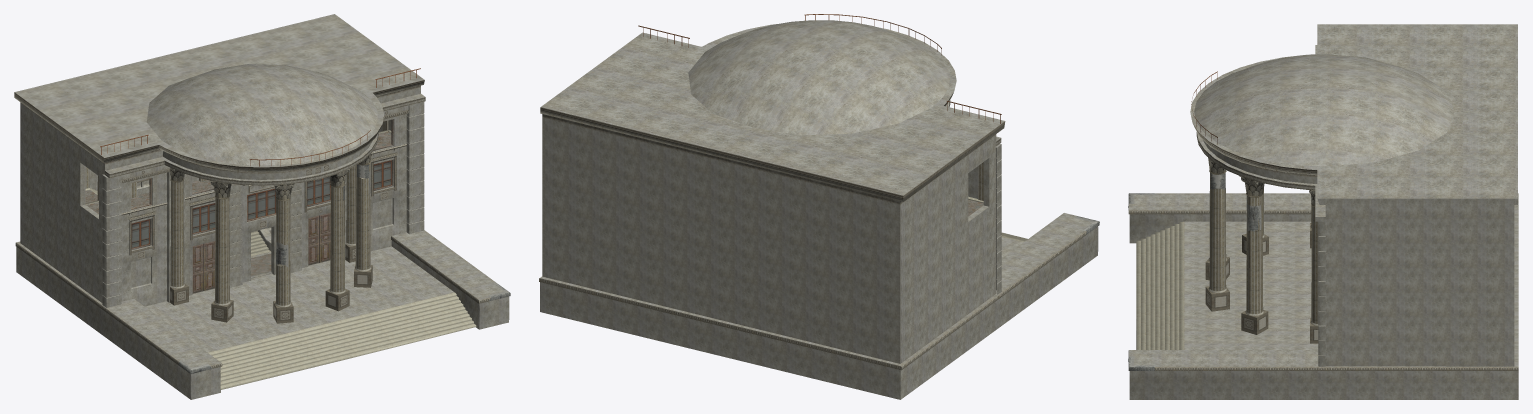
File: kosovo_municipal.FBX
The picture shows the model from 3 angles, left to right: view 1: azimuth 30°, elevation 25°; view 2: azimuth 150°, elevation 25°; view 3: azimuth 270°, elevation 25°; orthographic projection. The views are drawn at different scales.
Visible parts, largest first — view 1: kosovo_municipal; view 2: kosovo_municipal; view 3: kosovo_municipal.
Part boxes in pixels (left/top/right/bottom): kosovo_municipal: left=14, top=14, right=510, bottom=399; kosovo_municipal: left=539, top=14, right=1099, bottom=399; kosovo_municipal: left=1128, top=24, right=1518, bottom=399.
Bounding box in the file's own units: 3032 × 1920 × 2856.
6 materials, 6 textured.
